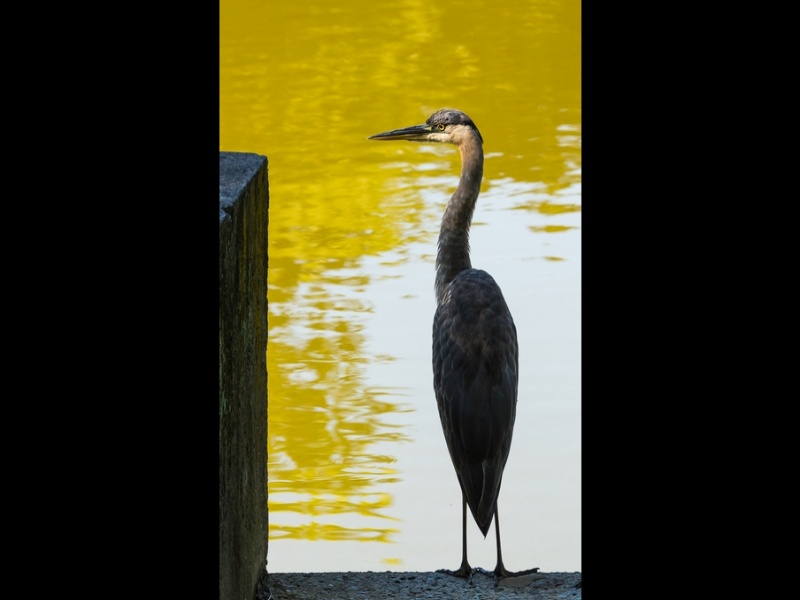heron: (367, 107, 522, 577)
